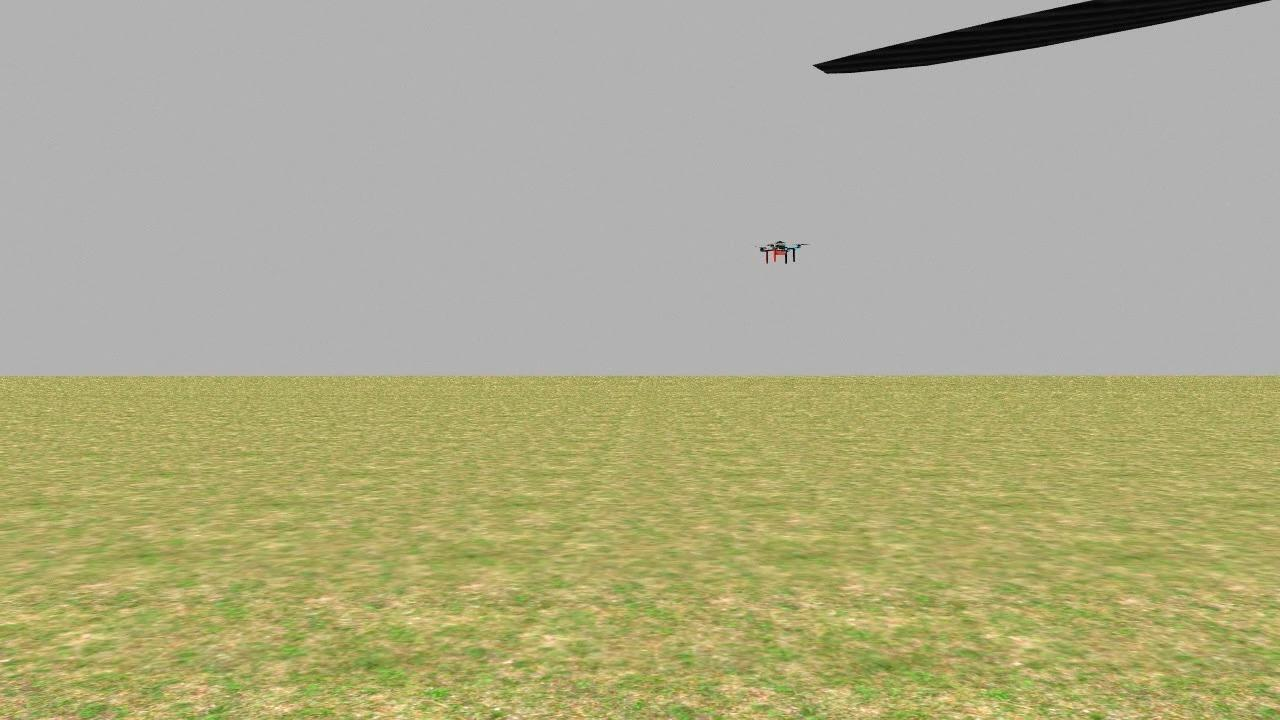UAV: (741, 224, 817, 274)
